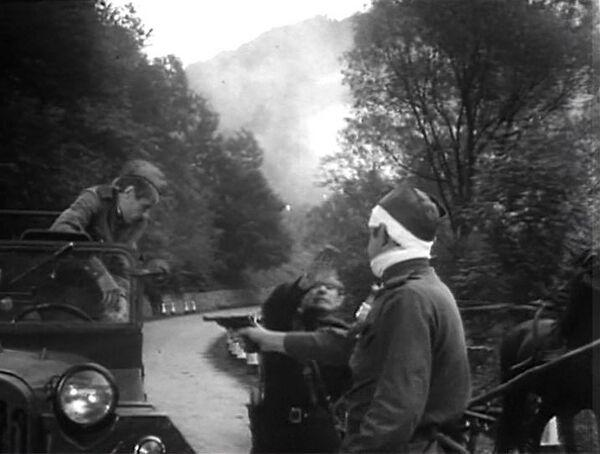Gun: (204, 313, 259, 355)
